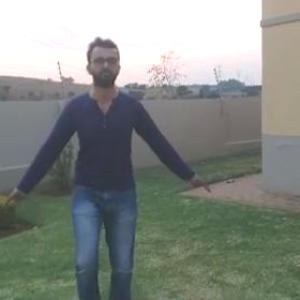land: (8, 40, 193, 280)
